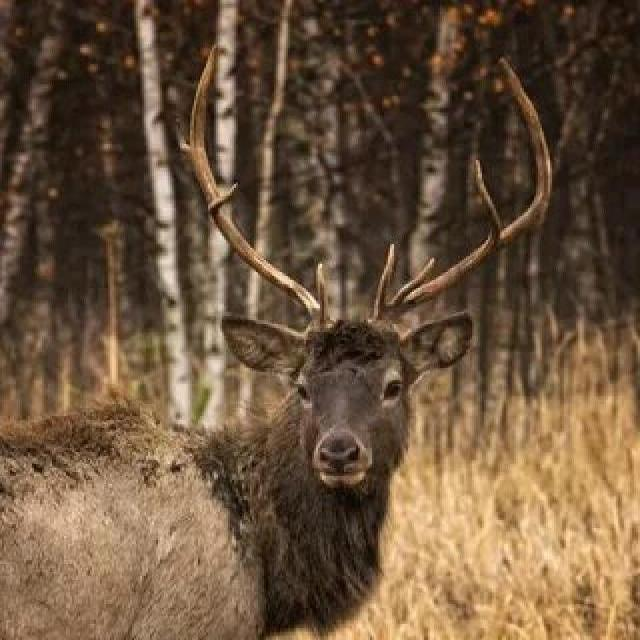deer: (0, 161, 612, 640)
